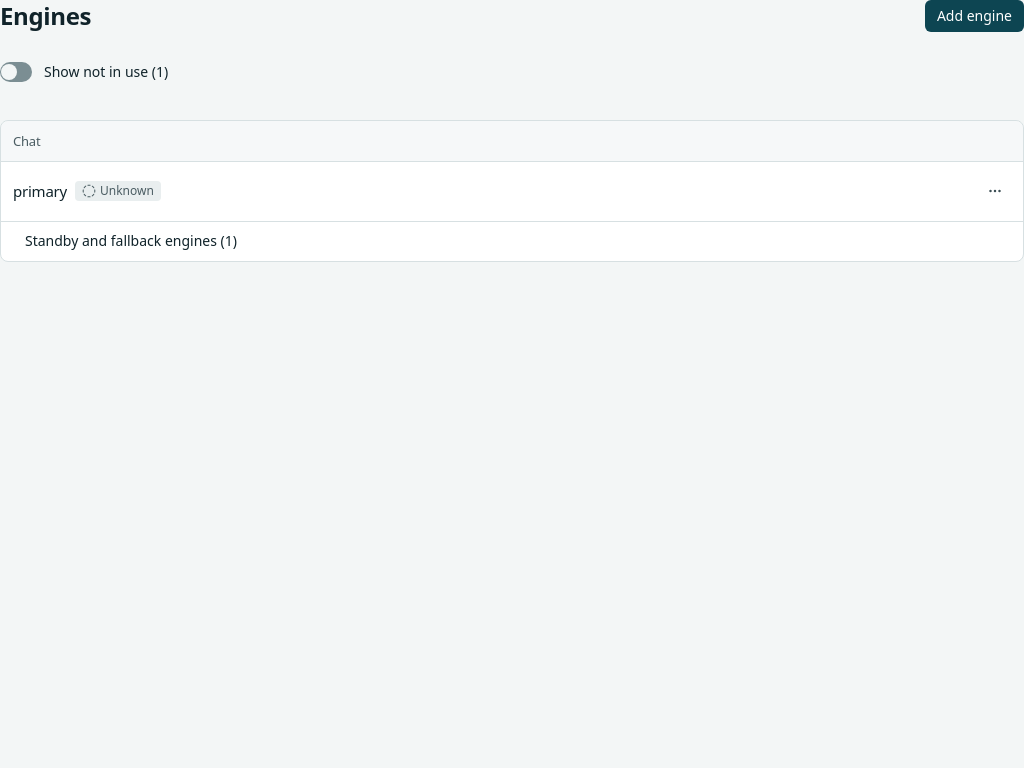
Test: engine progressive disclosure › starts compact, reveals fallback and disabled engines, opens rows as record pages, and opens Add engine
Check: the heading "Chat" is shown, box x1=13 y1=132 x2=40 y2=150
Check: the heading "disabled" is not shown
Click the button "primary Unknown".
click(40, 191)  # box x1=13 y1=169 x2=955 y2=213
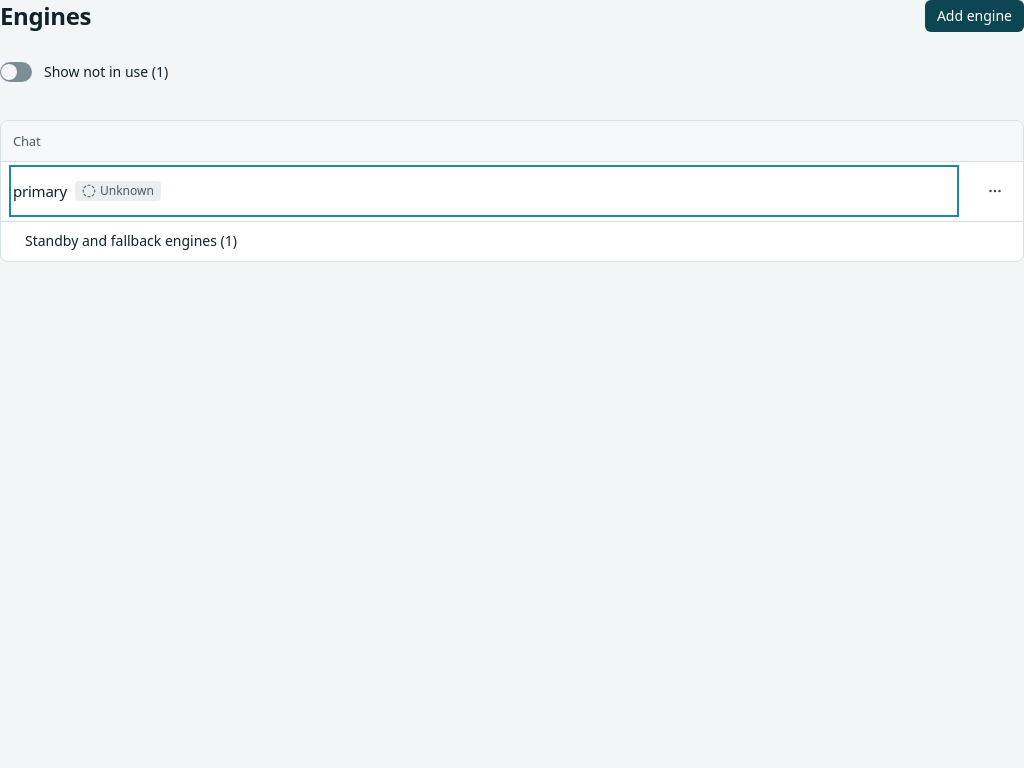
Click the button named "Actions for primary".
click(995, 191)  # box x1=979 y1=175 x2=1011 y2=207
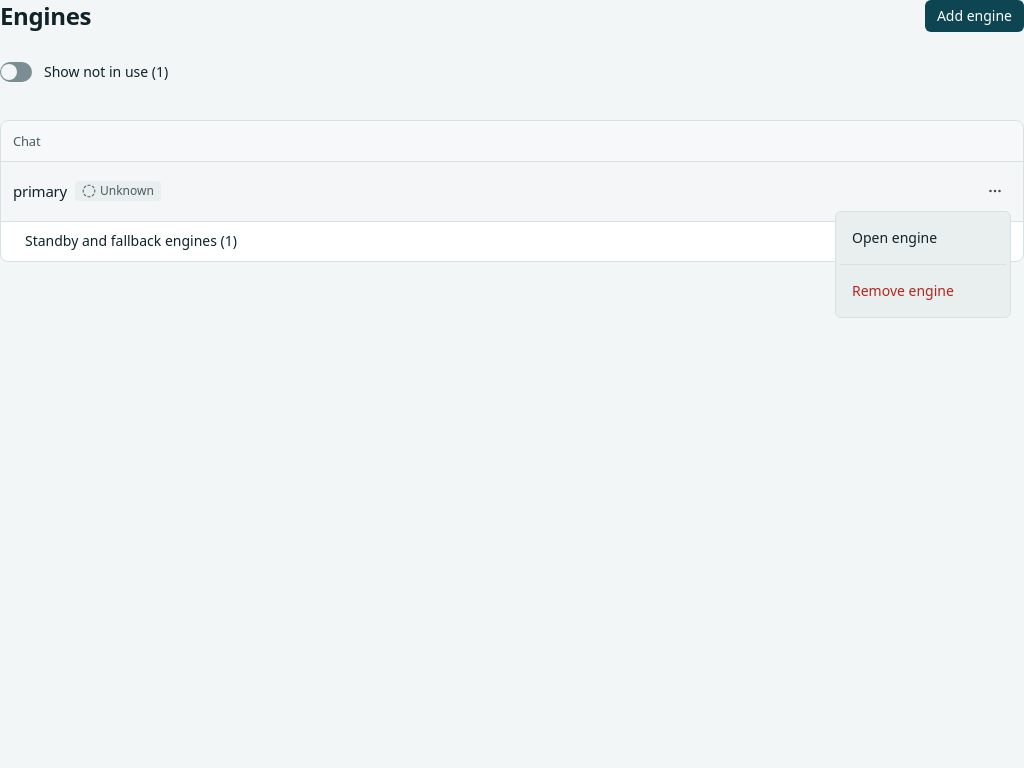
Click the menu item "Open engine".
click(895, 238)  # box x1=852 y1=228 x2=937 y2=247
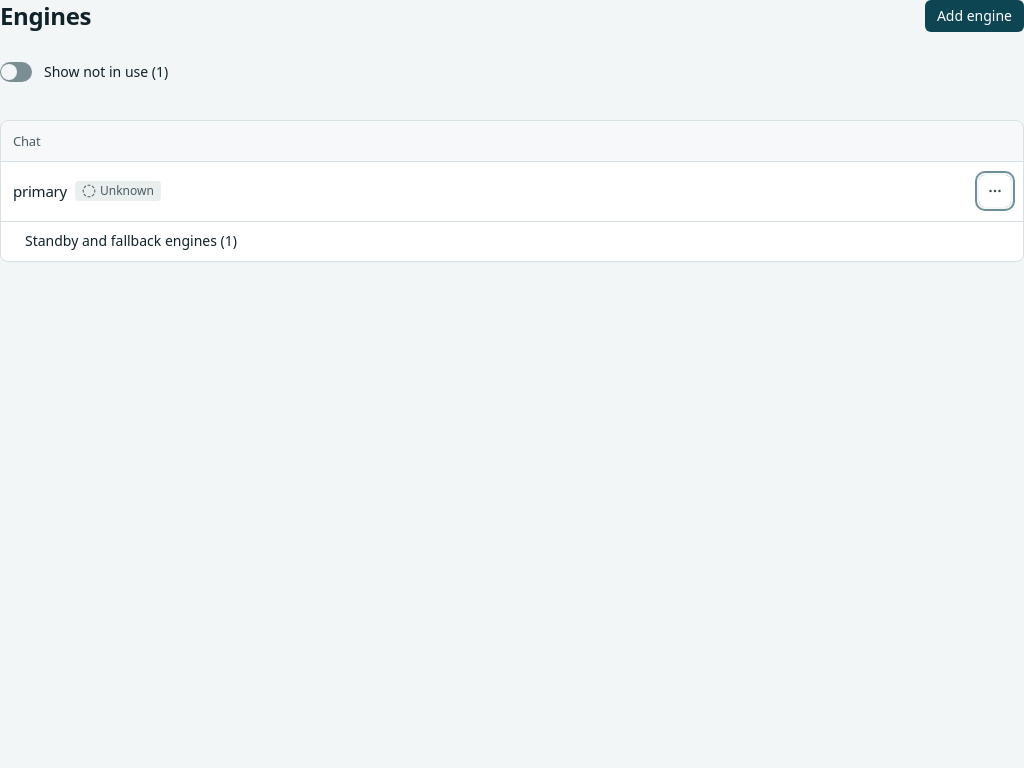
Click the button "Standby and fallback engines (1)".
click(131, 241)  # box x1=13 y1=225 x2=249 y2=257
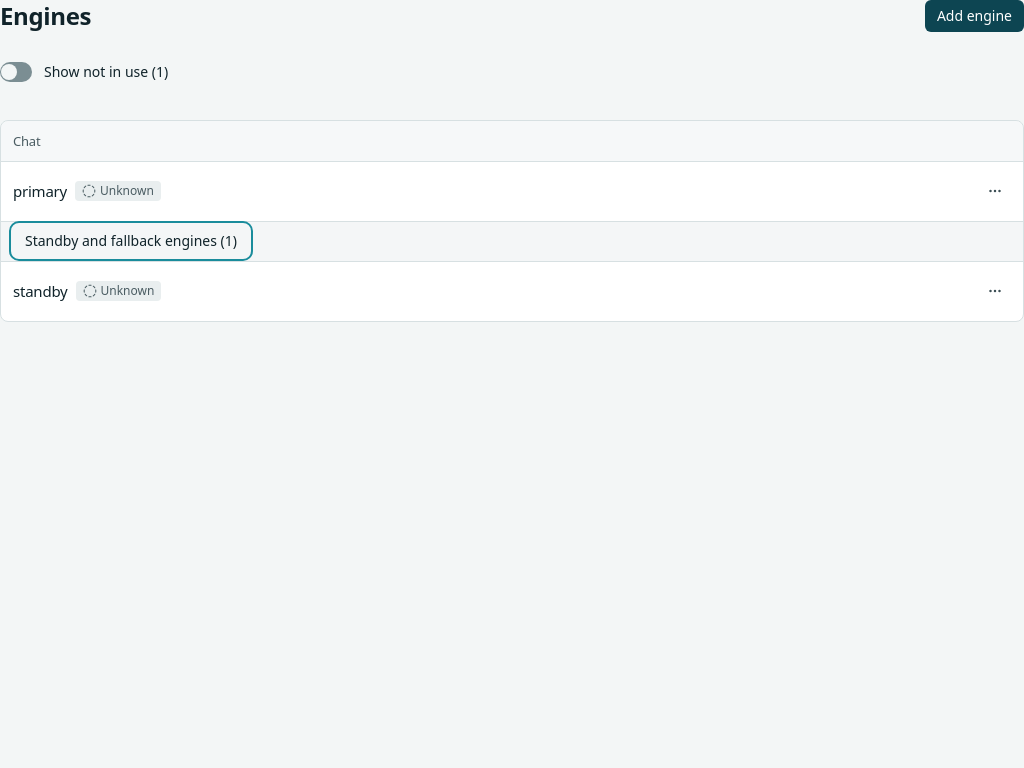
Check: the heading "standby" is shown, box x1=13 y1=280 x2=68 y2=302
Click the switch named "Show not in use".
click(16, 72)  # box x1=0 y1=62 x2=32 y2=82
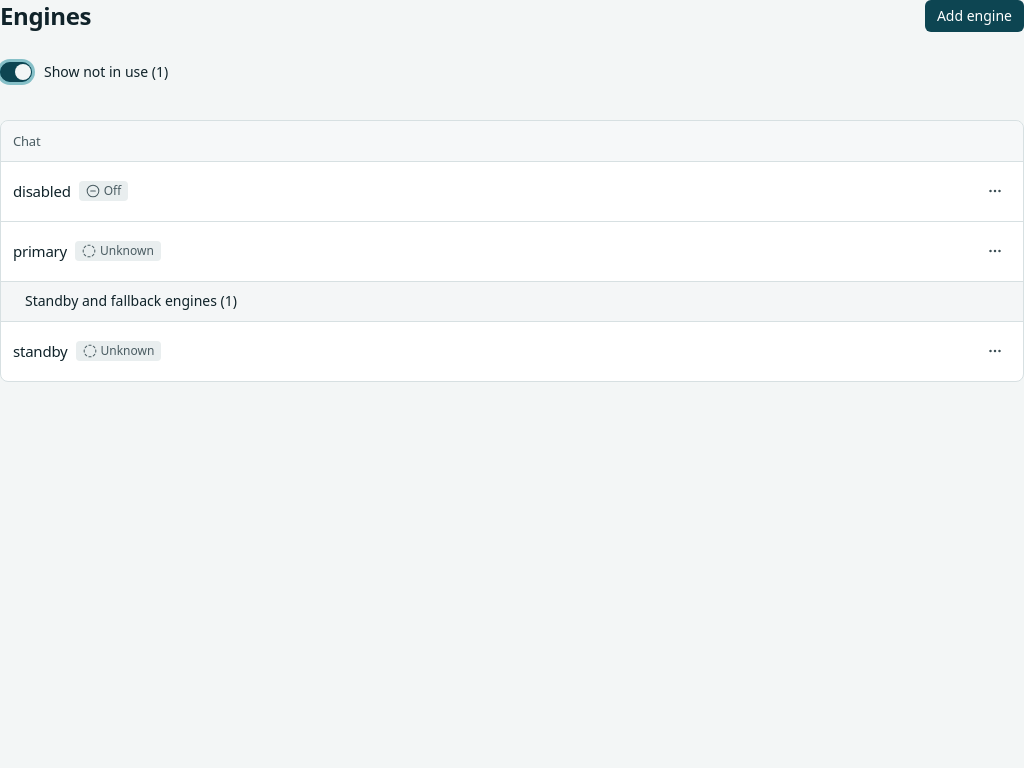
Check: the heading "disabled" is shown, box x1=13 y1=180 x2=71 y2=202
Click the button "Add engine".
click(974, 16)  # box x1=925 y1=0 x2=1023 y2=32
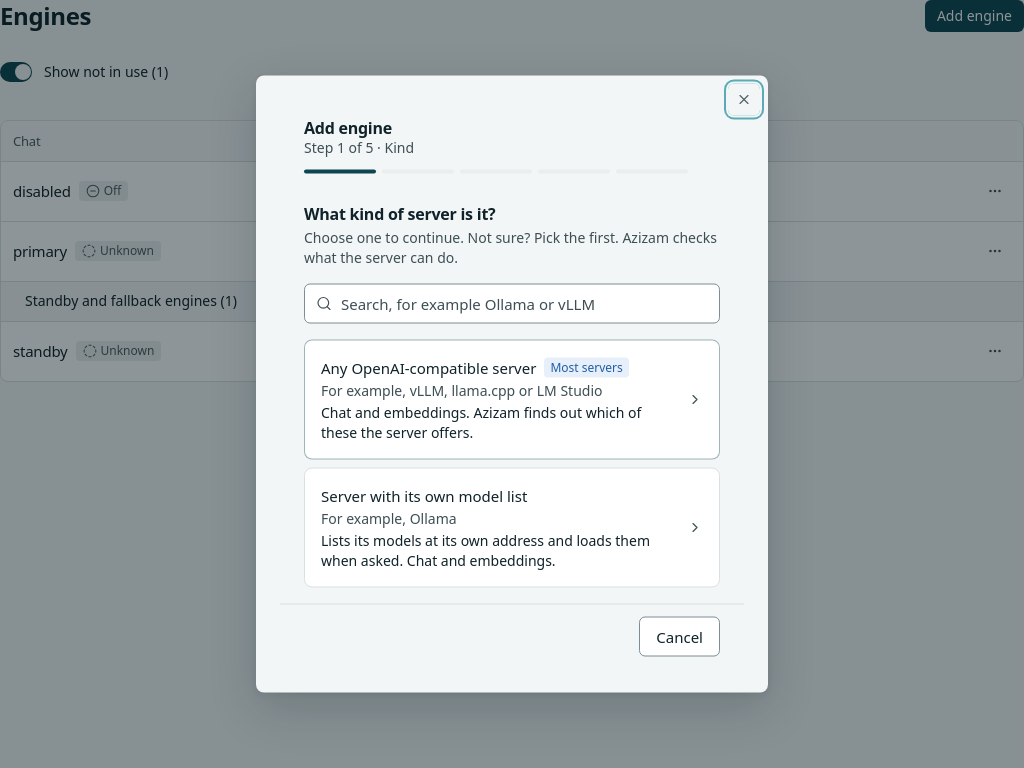
Check: the text "Step 1 of 5 · Kind" is shown, box x1=304 y1=138 x2=414 y2=156
